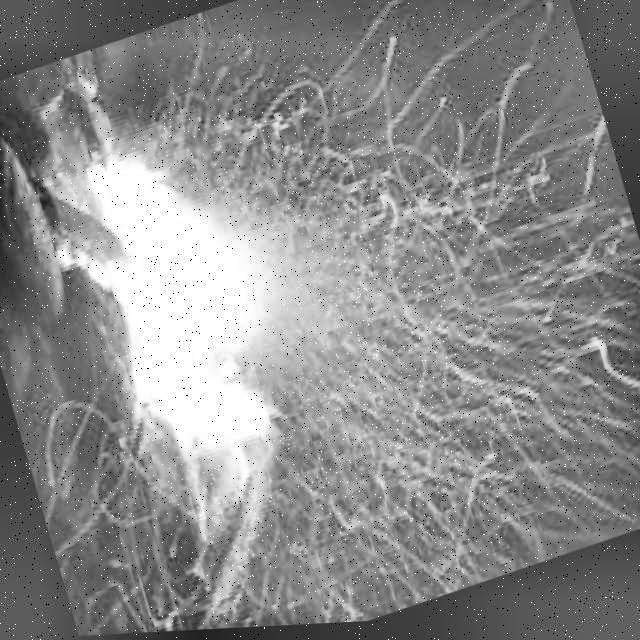Fire: (41, 88, 325, 518)
